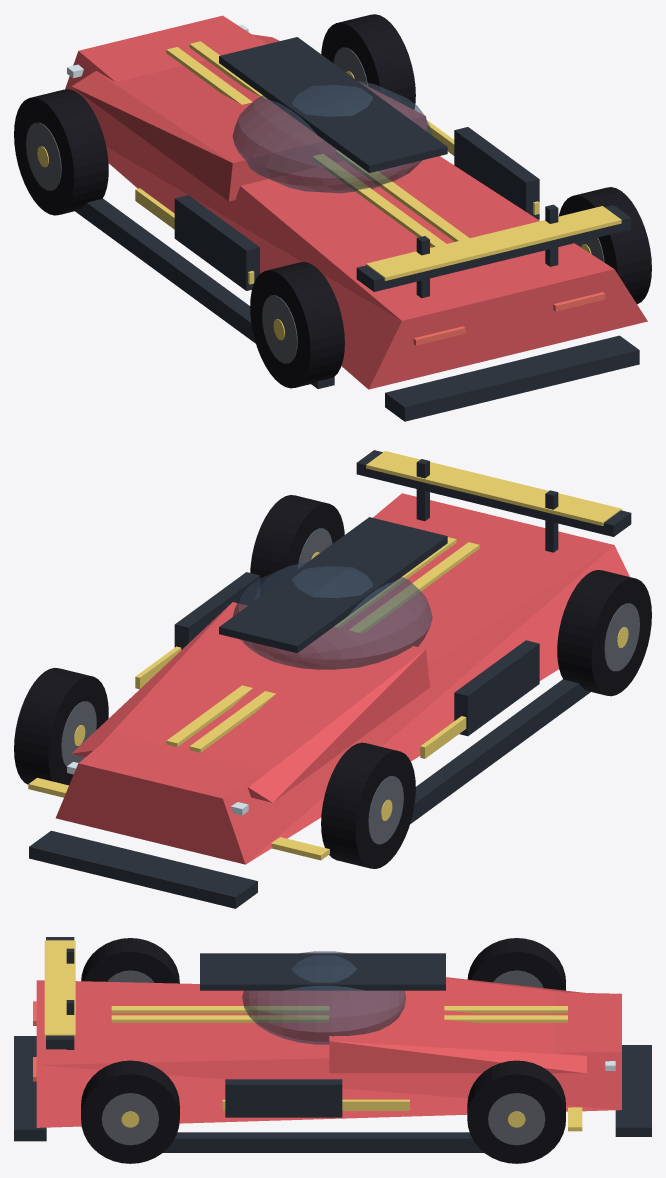
File: phantom_x.glb
3 views of the same model, one above another, from view 1: azimuth 30°, elevation 25°; view 2: azimuth 150°, elevation 25°; view 3: azimuth 270°, elevation 25° (orthographic). The views are drawn at different scales.
Visible parts, largest first — view 1: body_chassis, hood_slope, carbon_roof_spine, dark_cockpit_canopy, rear_diffuser, left_rear_tire, left_front_tire, left_side_skirt, rear_spoiler_accent, right_front_tire, left_side_intake, right_rear_tire (+8 smaller); view 2: body_chassis, hood_slope, carbon_roof_spine, dark_cockpit_canopy, left_front_tire, left_rear_tire, front_splitter, right_front_tire, left_side_skirt, rear_spoiler_accent, right_rear_tire, left_side_intake (+12 smaller); view 3: body_chassis, hood_slope, carbon_roof_spine, dark_cockpit_canopy, right_side_skirt, right_rear_tire, right_front_tire, right_side_intake, left_front_tire, left_rear_tire, front_splitter, rear_spoiler_accent (+10 smaller).
Part boxes in pixels (<box>): body_chassis: <box>65,15,647,389</box>; hood_slope: <box>71,34,427,201</box>; carbon_roof_spine: <box>219,37,447,172</box>; dark_cockpit_canopy: <box>232,81,432,193</box>; rear_diffuser: <box>385,335,639,421</box>; left_rear_tire: <box>250,262,344,388</box>; left_front_tire: <box>14,89,108,215</box>; left_side_skirt: <box>75,198,334,388</box>; rear_spoiler_accent: <box>366,206,621,280</box>; right_front_tire: <box>321,14,415,109</box>; left_side_intake: <box>174,195,259,290</box>; right_rear_tire: <box>558,187,651,304</box>; body_chassis: <box>56,493,629,864</box>; hood_slope: <box>72,602,429,802</box>; carbon_roof_spine: <box>219,517,447,653</box>; dark_cockpit_canopy: <box>233,562,432,669</box>; left_front_tire: <box>321,742,415,868</box>; left_rear_tire: <box>557,570,651,696</box>; front_splitter: <box>29,830,257,908</box>; right_front_tire: <box>14,667,108,785</box>; left_side_skirt: <box>410,679,590,824</box>; rear_spoiler_accent: <box>366,451,621,525</box>; right_rear_tire: <box>250,495,344,596</box>; left_side_intake: <box>454,640,539,736</box>; body_chassis: <box>36,980,621,1127</box>; hood_slope: <box>329,977,586,1073</box>; carbon_roof_spine: <box>200,953,445,990</box>; dark_cockpit_canopy: <box>242,951,405,1044</box>; right_side_skirt: <box>163,1132,483,1152</box>; right_rear_tire: <box>81,1060,179,1163</box>; right_front_tire: <box>467,1060,565,1163</box>; right_side_intake: <box>225,1079,342,1117</box>; left_front_tire: <box>467,938,565,990</box>; left_rear_tire: <box>81,938,179,983</box>; front_splitter: <box>615,1045,651,1136</box>; rear_spoiler_accent: <box>44,940,75,1037</box>.
Bounding box in the file's own units: 2.5 × 1.1 × 4.9.
